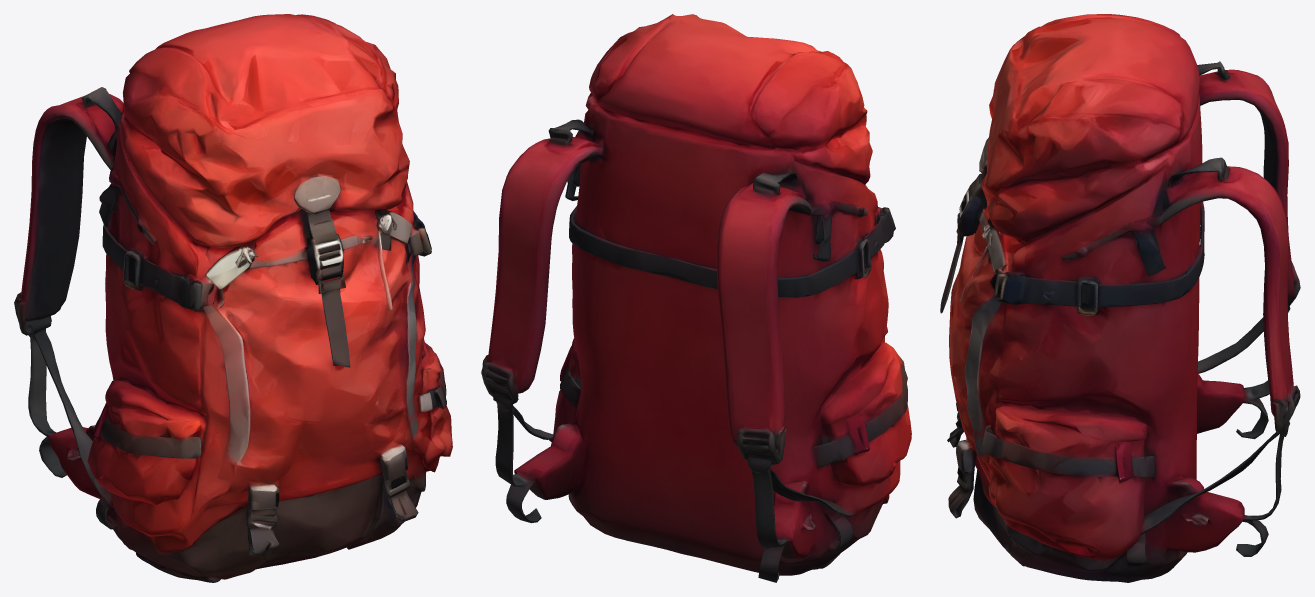
File: backpack.glb
3 views of the same model, side by side, from view 1: azimuth 30°, elevation 25°; view 2: azimuth 150°, elevation 25°; view 3: azimuth 270°, elevation 25° (orthographic). The views are drawn at different scales.
Parts seen in each view (by area): view 1: tripo_node_2f7a467e-7e10-48d0-9788-1e404c4f3327; view 2: tripo_node_2f7a467e-7e10-48d0-9788-1e404c4f3327; view 3: tripo_node_2f7a467e-7e10-48d0-9788-1e404c4f3327.
Part boxes in pixels (bbox=[...]): tripo_node_2f7a467e-7e10-48d0-9788-1e404c4f3327: bbox=[14, 14, 452, 582]; tripo_node_2f7a467e-7e10-48d0-9788-1e404c4f3327: bbox=[481, 14, 911, 582]; tripo_node_2f7a467e-7e10-48d0-9788-1e404c4f3327: bbox=[940, 14, 1300, 582].
Bounding box in the file's own units: 0.6918 × 1 × 0.6633.
Materials: 1 (1 with a texture image).
